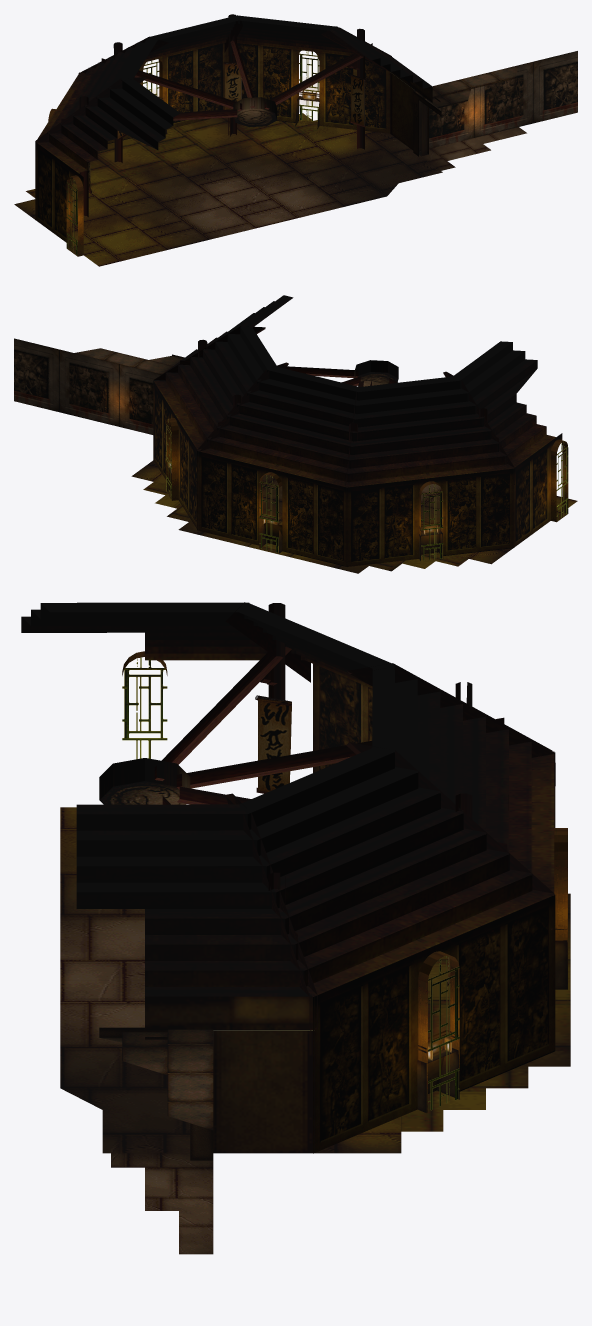
Rendered from ShaolinTemple.glb.
The picture shows the model from 3 angles, top to bottom: view 1: azimuth 30°, elevation 25°; view 2: azimuth 150°, elevation 25°; view 3: azimuth 270°, elevation 25°; orthographic projection. The views are drawn at different scales.
Parts seen in each view (by area): view 1: output_1.002, output_1.003, output_1.004, output_1.001, output_1.012, output_1.007, output_1.008, output_1.005, output_1.009, output_1.010; view 2: output_1.003, output_1.004, output_1.012, output_1.001, output_1.007, output_1.005, output_1.002, output_1.008, output_1.009; view 3: output_1.003, output_1.004, output_1.002, output_1.001, output_1.007, output_1.008, output_1.005, output_1.010, output_1.006, output_1.009.
Part boxes in pixels (box(x1,y1,x2,y2)): output_1.002: box(14, 127, 526, 266); output_1.003: box(35, 15, 431, 256); output_1.004: box(35, 43, 390, 242); output_1.001: box(26, 51, 414, 255); output_1.012: box(474, 51, 577, 137); output_1.007: box(165, 65, 518, 156); output_1.008: box(61, 35, 389, 123); output_1.005: box(158, 72, 515, 148); output_1.009: box(79, 14, 364, 216); output_1.010: box(88, 63, 364, 190); output_1.003: box(153, 295, 568, 559); output_1.004: box(153, 381, 562, 566); output_1.012: box(14, 338, 118, 426); output_1.001: box(143, 419, 568, 573); output_1.007: box(75, 348, 440, 554); output_1.005: box(119, 354, 442, 536); output_1.002: box(131, 460, 577, 564); output_1.008: box(153, 327, 514, 504); output_1.009: box(198, 339, 487, 441); output_1.003: box(21, 602, 567, 1112); output_1.004: box(313, 664, 555, 1153); output_1.002: box(60, 807, 401, 1254); output_1.001: box(122, 657, 570, 1153); output_1.007: box(99, 758, 451, 1160); output_1.008: box(154, 646, 552, 1030); output_1.005: box(145, 925, 560, 1063); output_1.010: box(258, 698, 450, 983); output_1.006: box(99, 928, 567, 1112); output_1.009: box(268, 603, 472, 904).
Bounding box in the file's own units: 43.44 × 10.8 × 19.76.
Materials: 16 (16 with a texture image).
